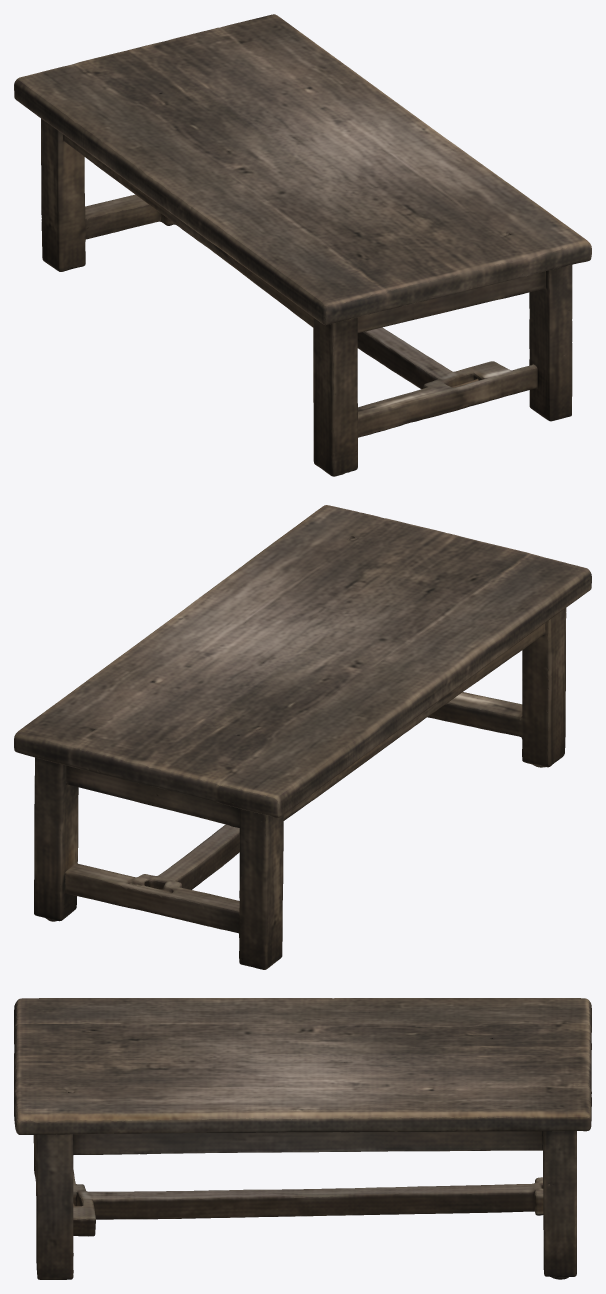
Rendered from table.glb.
The picture shows the model from 3 angles, top to bottom: view 1: azimuth 30°, elevation 25°; view 2: azimuth 150°, elevation 25°; view 3: azimuth 270°, elevation 25°; orthographic projection. The views are drawn at different scales.
Visible parts, largest first — view 1: world; view 2: world; view 3: world.
Boxes of the visible parts, box(x1,y1,x2,y2) form: world: box(14, 14, 591, 476); world: box(14, 505, 591, 969); world: box(14, 998, 591, 1279).
Bounding box in the file's own units: 0.4956 × 0.3354 × 1.
1 material, 1 textured.
